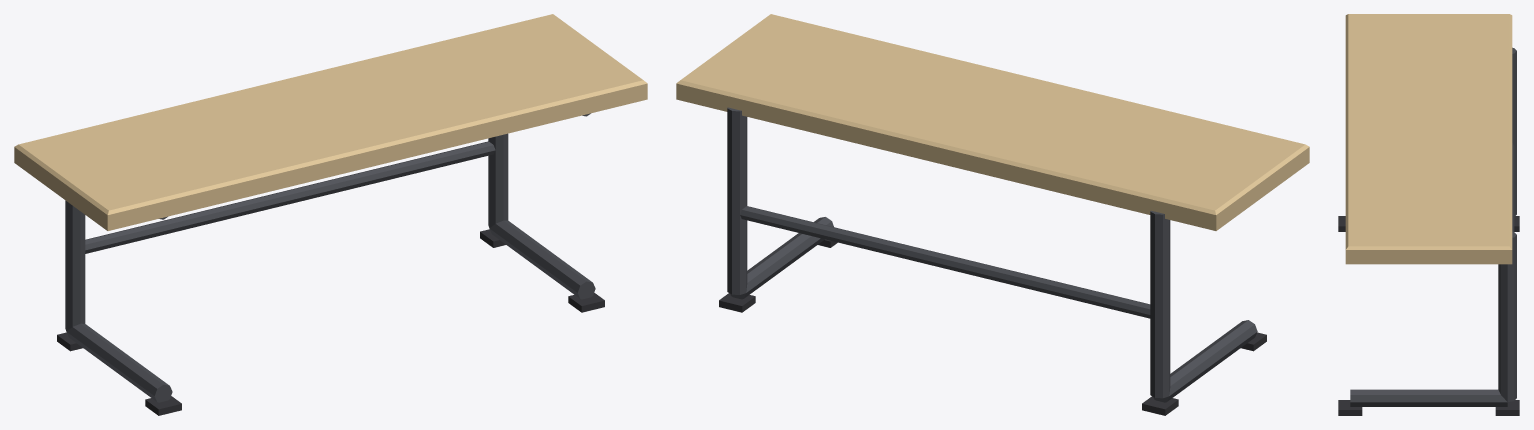
File: FN_Bench_Stacking.obj
3 renders of one model, left to right at view 1: azimuth 30°, elevation 25°; view 2: azimuth 150°, elevation 25°; view 3: azimuth 270°, elevation 25°, orthographic. The views are drawn at different scales.
Parts seen in each view (by area): view 1: FN_Bench_Stacking; view 2: FN_Bench_Stacking; view 3: FN_Bench_Stacking.
Boxes of the visible parts, <box> form: FN_Bench_Stacking: <box>14,14,647,415</box>; FN_Bench_Stacking: <box>676,14,1309,415</box>; FN_Bench_Stacking: <box>1338,14,1519,415</box>.
Bounding box in the file's own units: 1.2 × 0.45 × 0.392.
Materials: 1 (1 with a texture image).
